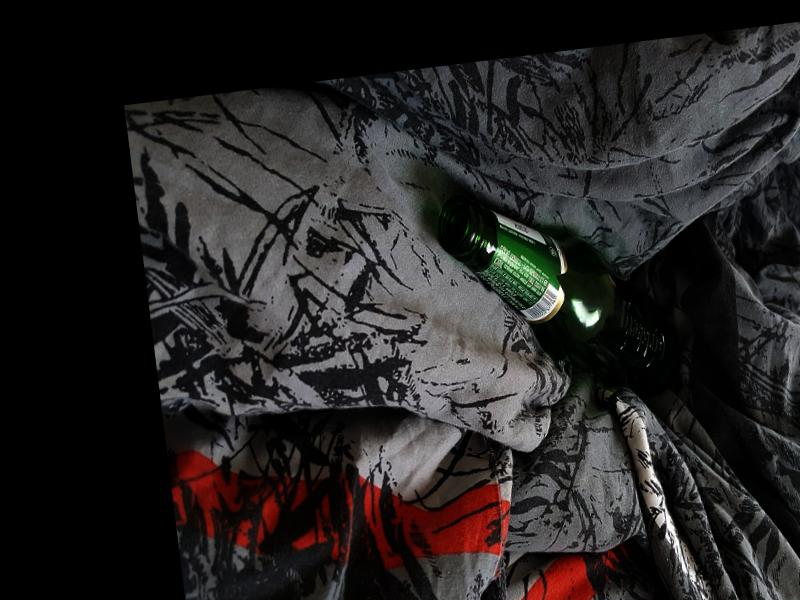Beer: (431, 174, 685, 419)
